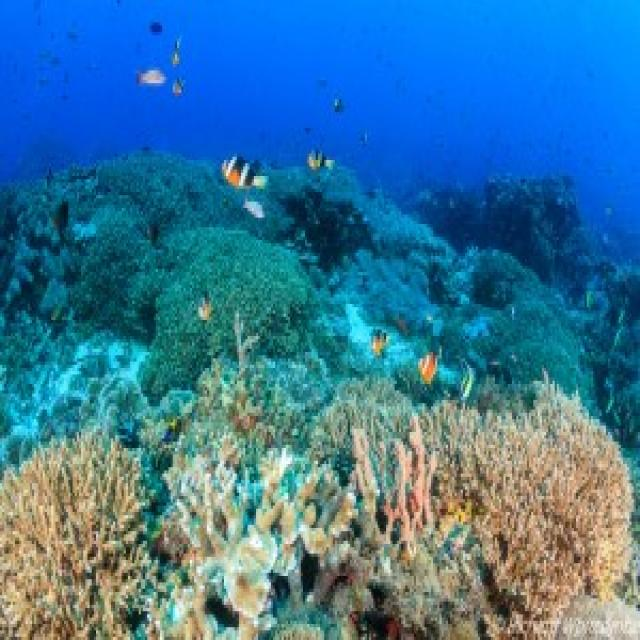Bleached: (159, 436, 355, 638)
Healthy: (426, 404, 590, 638), (334, 404, 479, 638), (144, 228, 325, 398), (1, 433, 148, 638), (524, 372, 632, 596), (144, 289, 308, 430), (69, 206, 159, 337), (310, 379, 421, 478)
